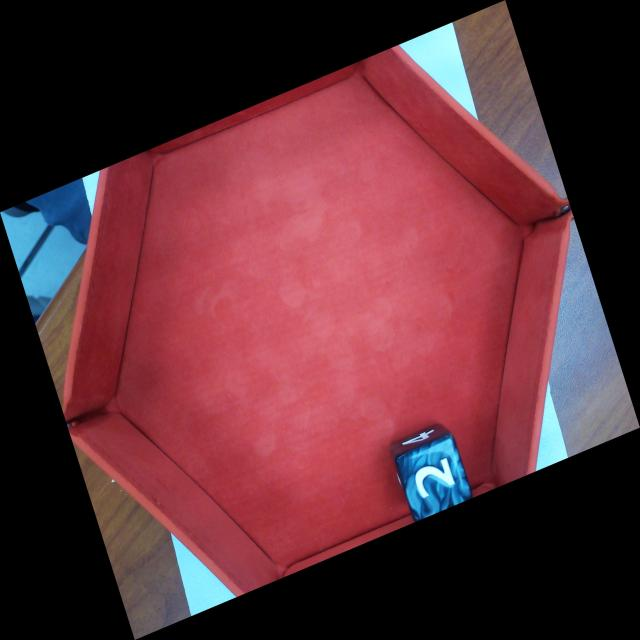dice: (395, 433, 473, 523)
